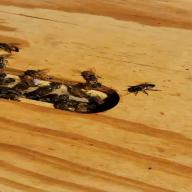Bee: (68, 64, 105, 86), (131, 82, 169, 103), (26, 67, 63, 85), (0, 41, 29, 59)
